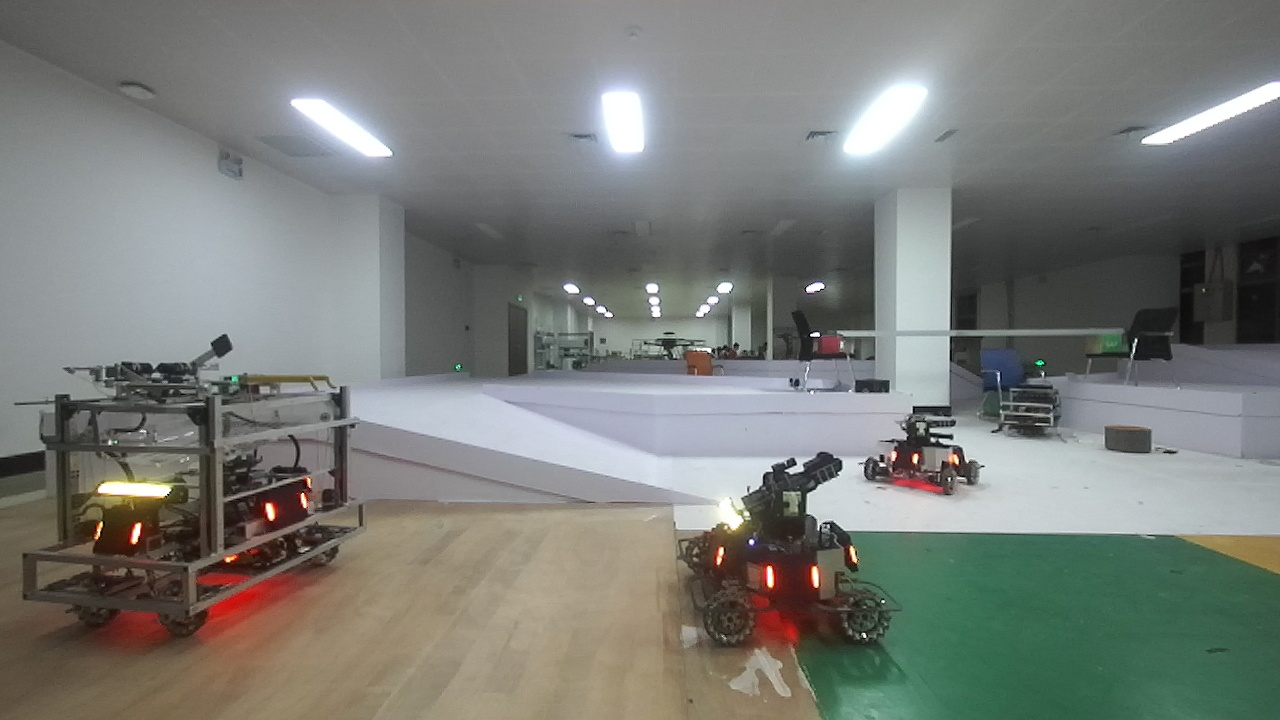car: (9, 330, 371, 650), (673, 461, 915, 668), (871, 399, 996, 503)
